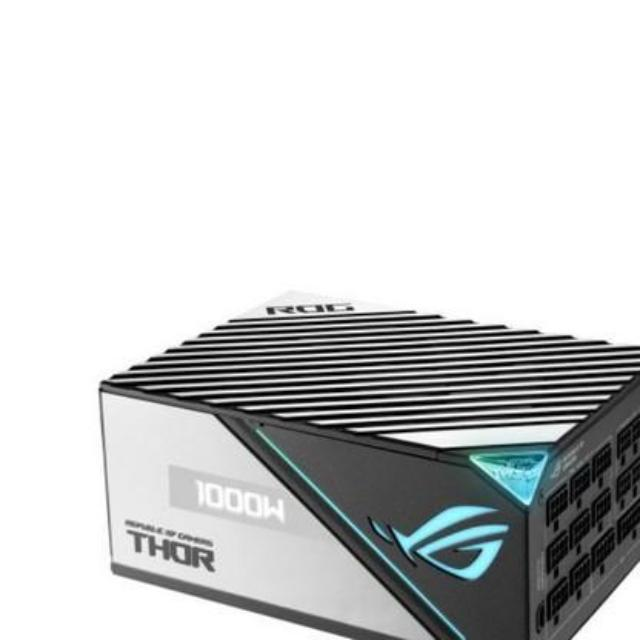PSU: (72, 258, 640, 640)
